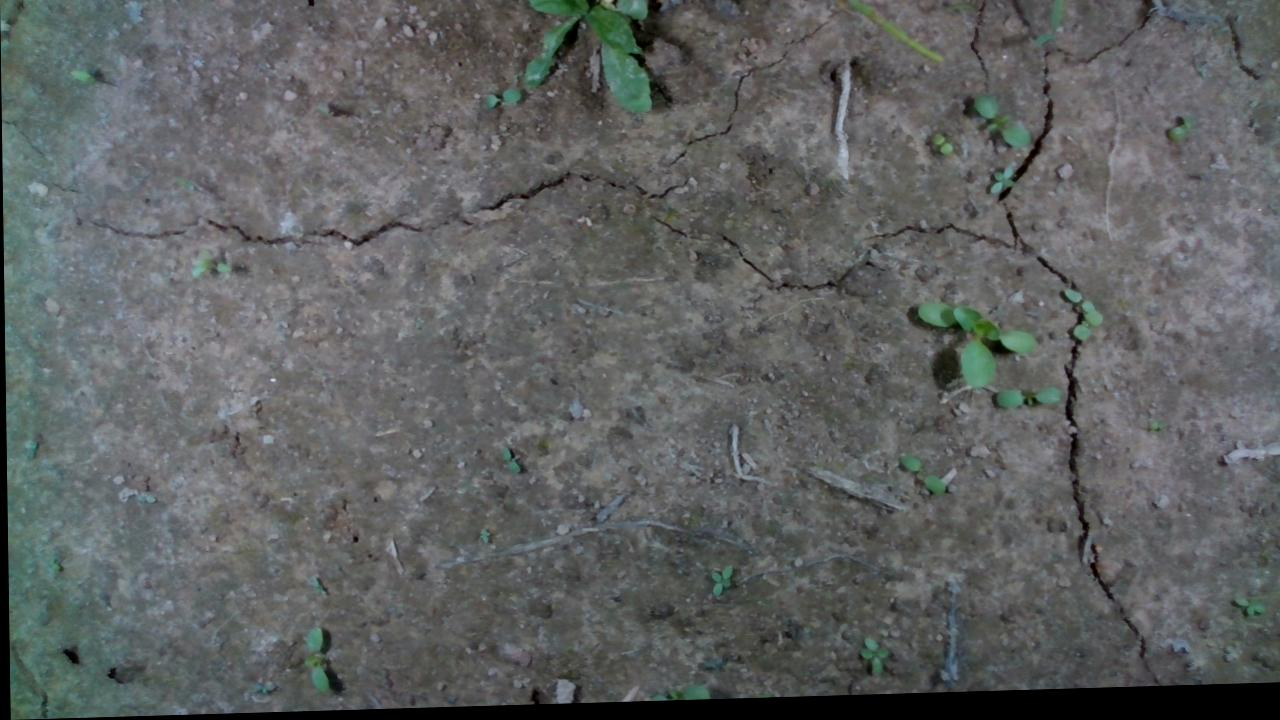weed: (968, 97, 1032, 153), (894, 457, 945, 500), (190, 250, 252, 285), (1162, 122, 1214, 156), (992, 392, 1063, 415), (1220, 598, 1264, 631), (56, 63, 100, 95), (986, 168, 1018, 210), (703, 568, 738, 606), (854, 637, 888, 674), (922, 136, 956, 165)
